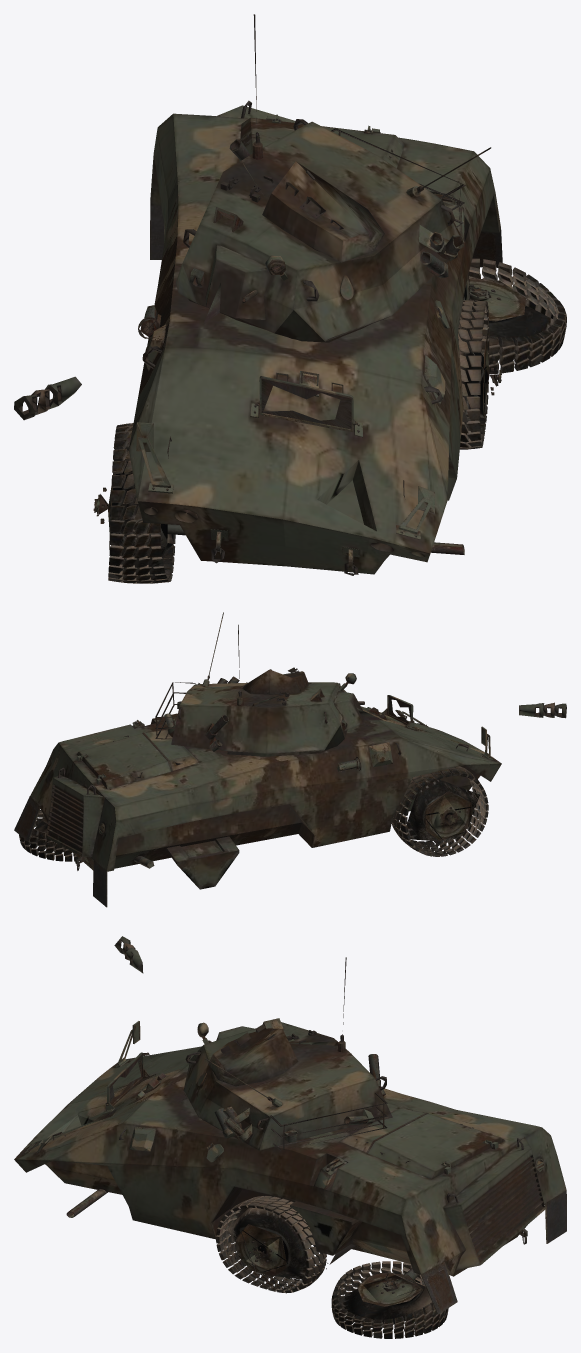
The model's file is wreck.glb.
3 views of the same model, one above another, from view 1: azimuth 30°, elevation 25°; view 2: azimuth 150°, elevation 25°; view 3: azimuth 270°, elevation 25° (orthographic). The views are drawn at different scales.
Parts seen in each view (by area): view 1: m; view 2: m; view 3: m.
Part boxes in pixels (x1=…): m: x1=14, y1=14, x2=566, y2=583; m: x1=14, y1=612, x2=566, y2=907; m: x1=14, y1=936, x2=566, y2=1338.
Bounding box in the file's own units: 5.33 × 2.89 × 5.2.
3 materials, 3 textured.
